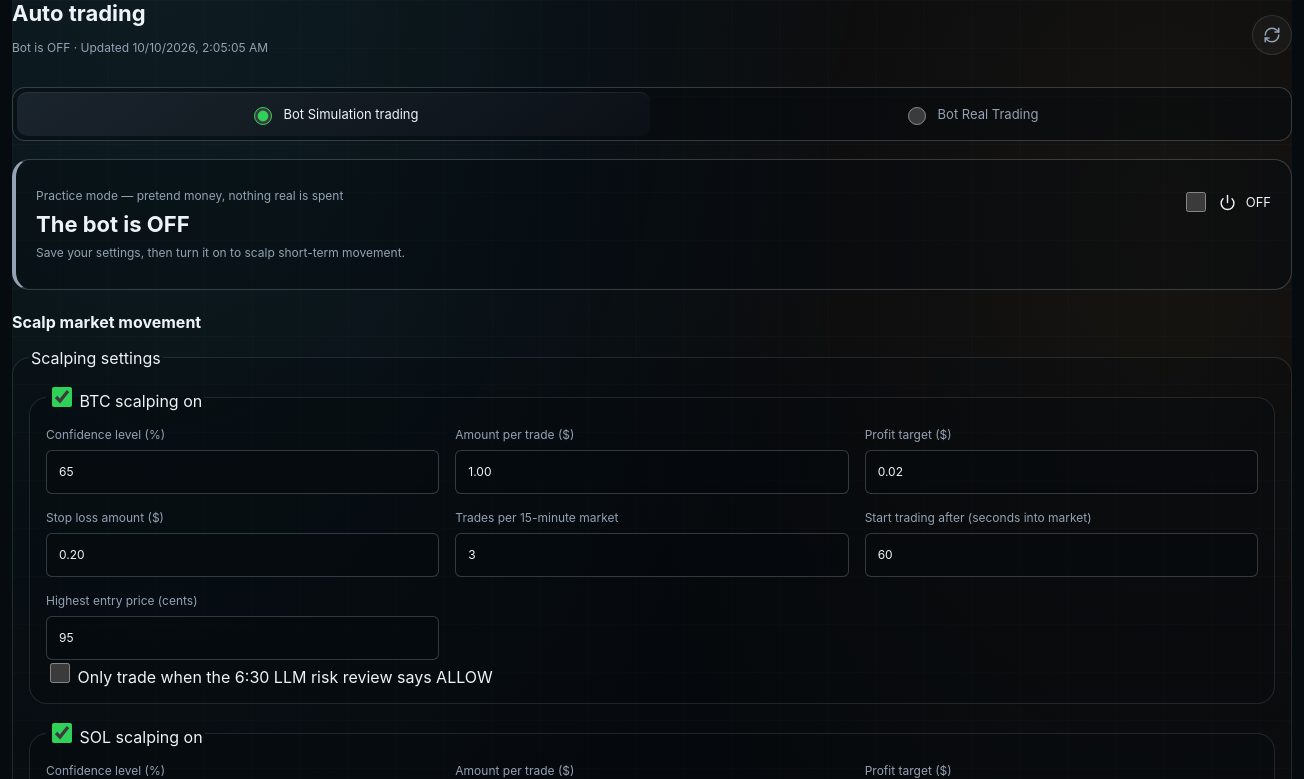
Test: Trading tab › shows structured API validation errors and keeps failed settings unsaved
Clear the field named "BTC Amount per trade ($)" at point(652, 472), box [455,450,849,494]
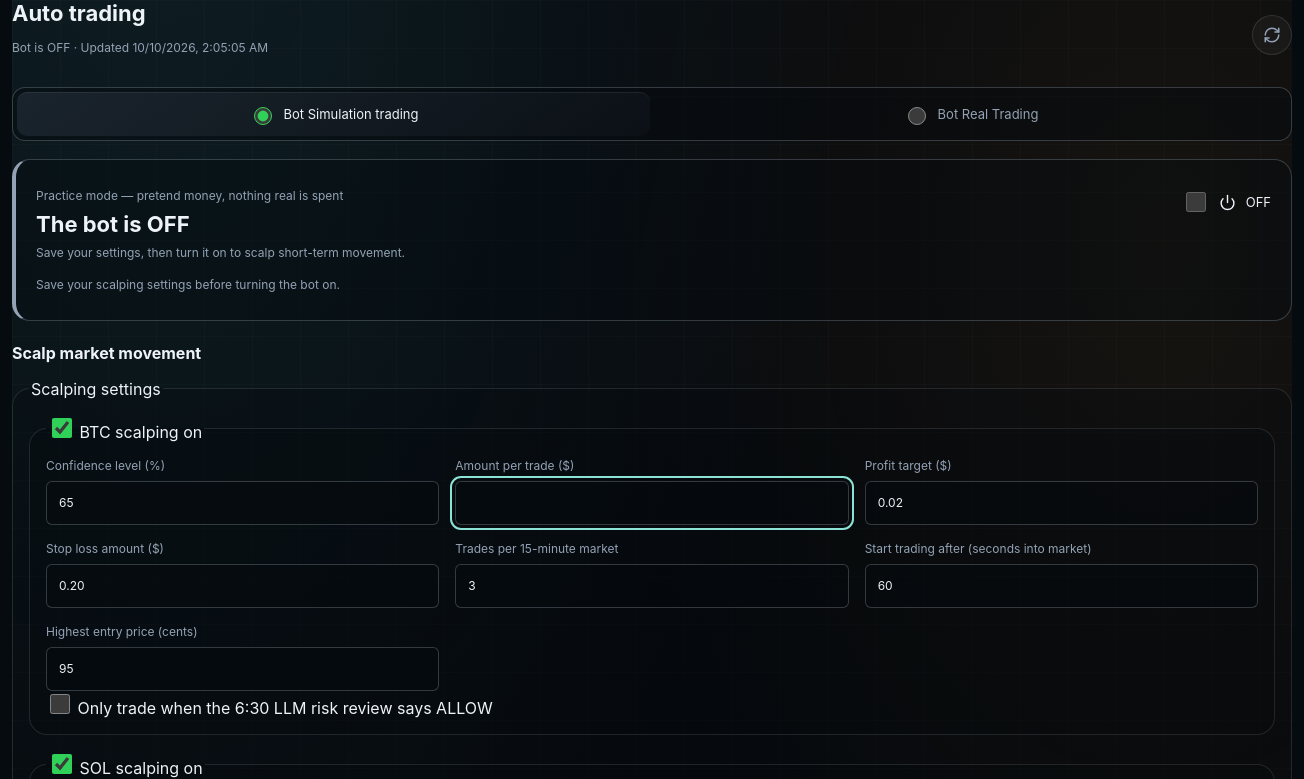
Type "1.50" into the field named "BTC Amount per trade ($)" at point(652, 503), box [455,481,849,525]
(page scrolled)
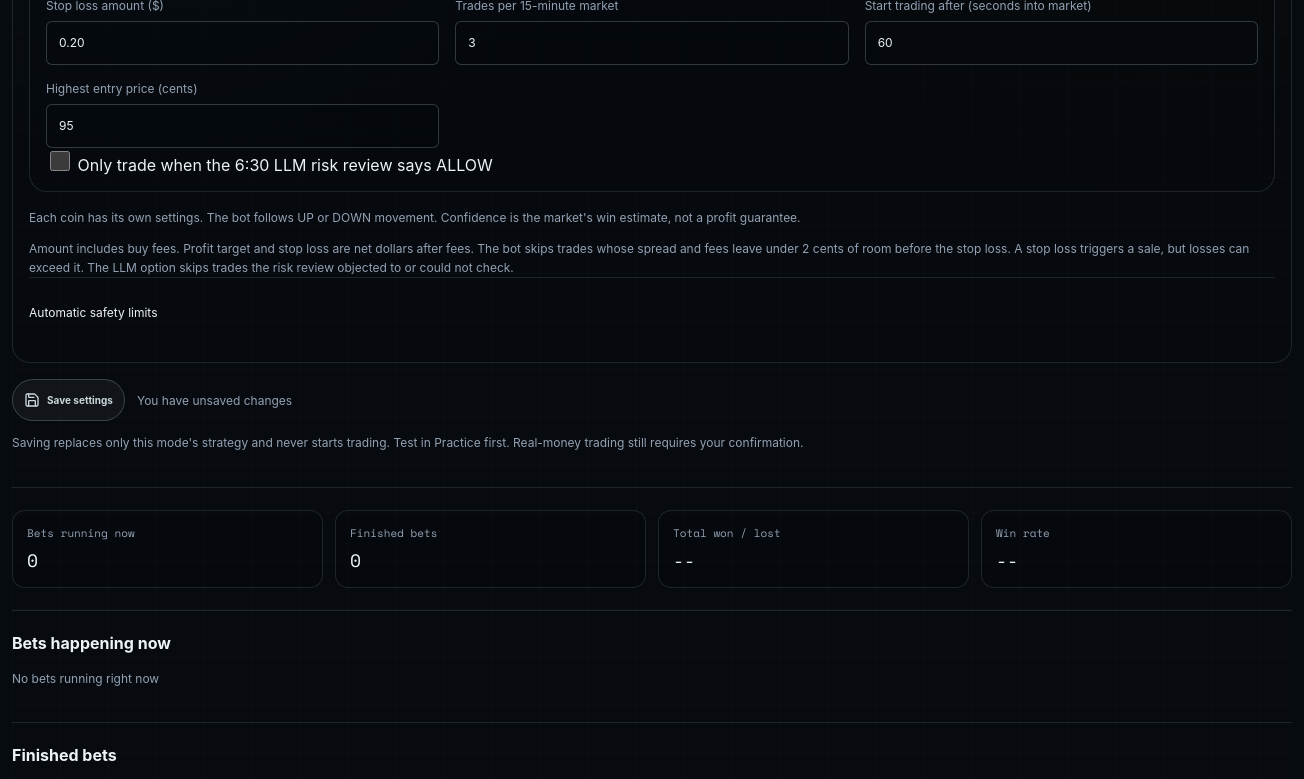
Click the button "Save settings" at point(68, 400), box [12,379,125,421]
(page scrolled)
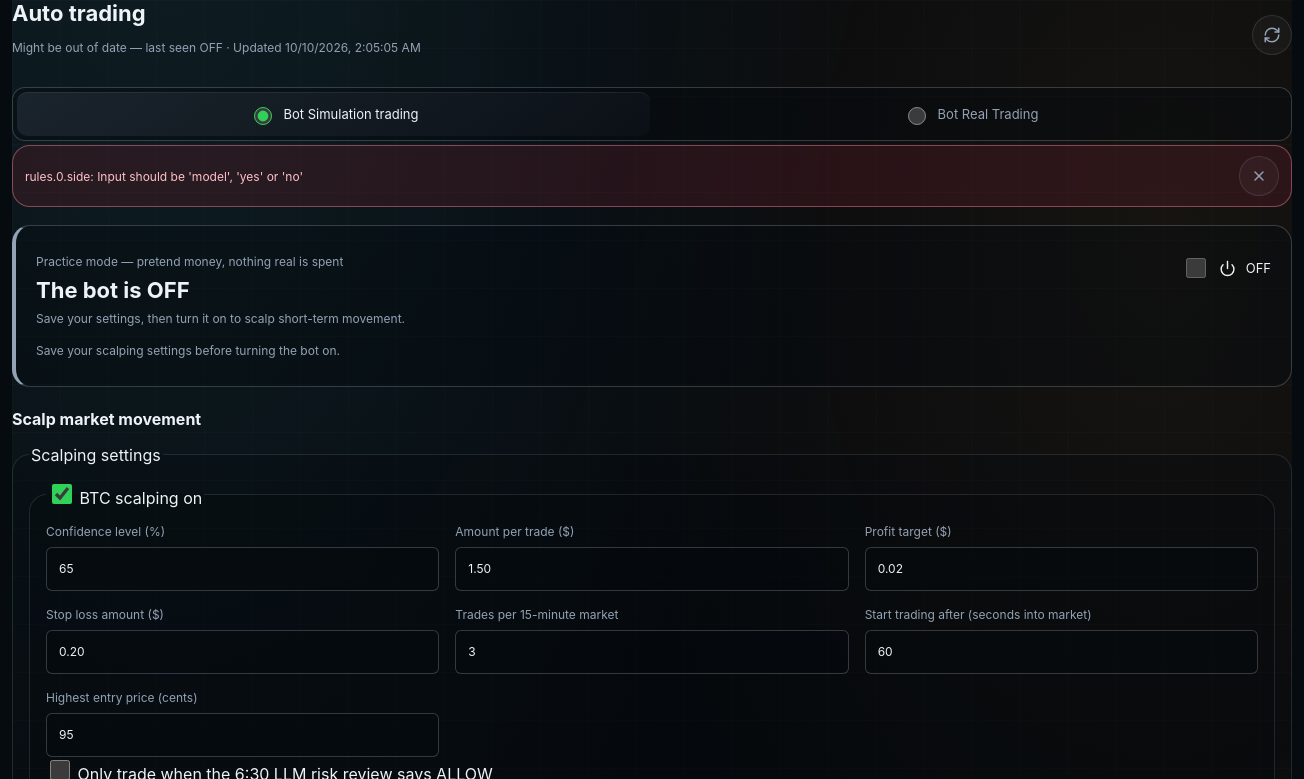
Check: the text "Scalping settings saved." is not shown
Check: the text "rules.0.side: Input should be 'model', 'yes' or 'no'" is shown, box [25,169,303,184]
Click the button named "Refresh" at point(1272, 35), box [1252,15,1292,55]
(page scrolled)
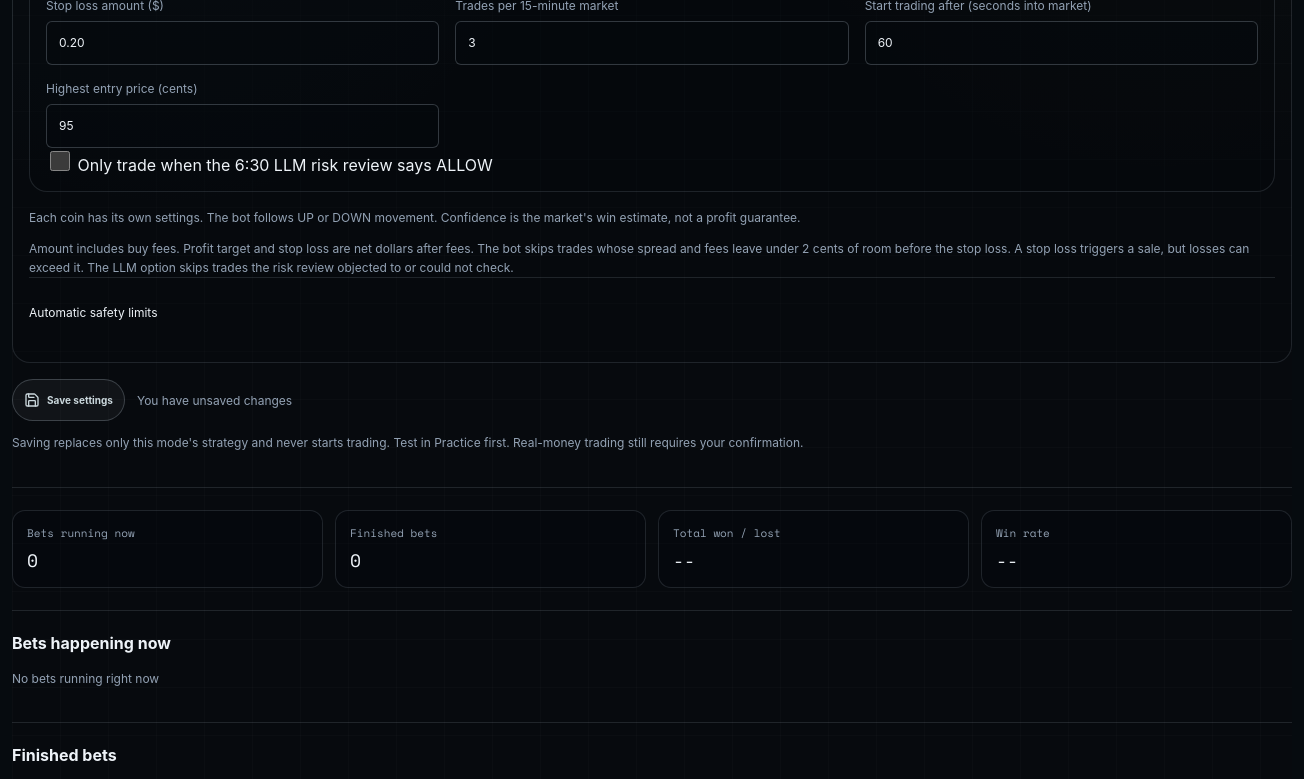
Check: the button "Save settings" is enabled
Click the button "Save settings" at point(68, 400), box [12,379,125,421]
(page scrolled)
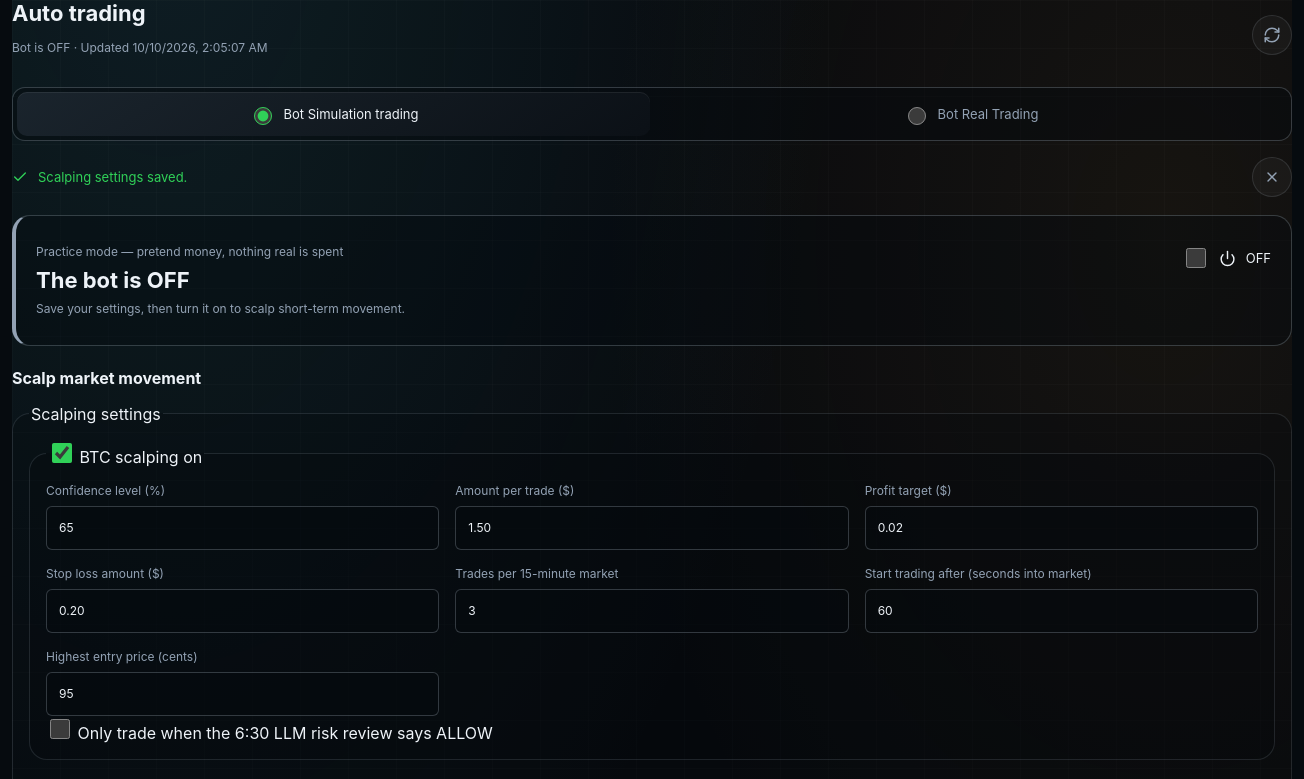
Check: the text "Scalping settings saved." is shown, box [12,157,1292,197]
